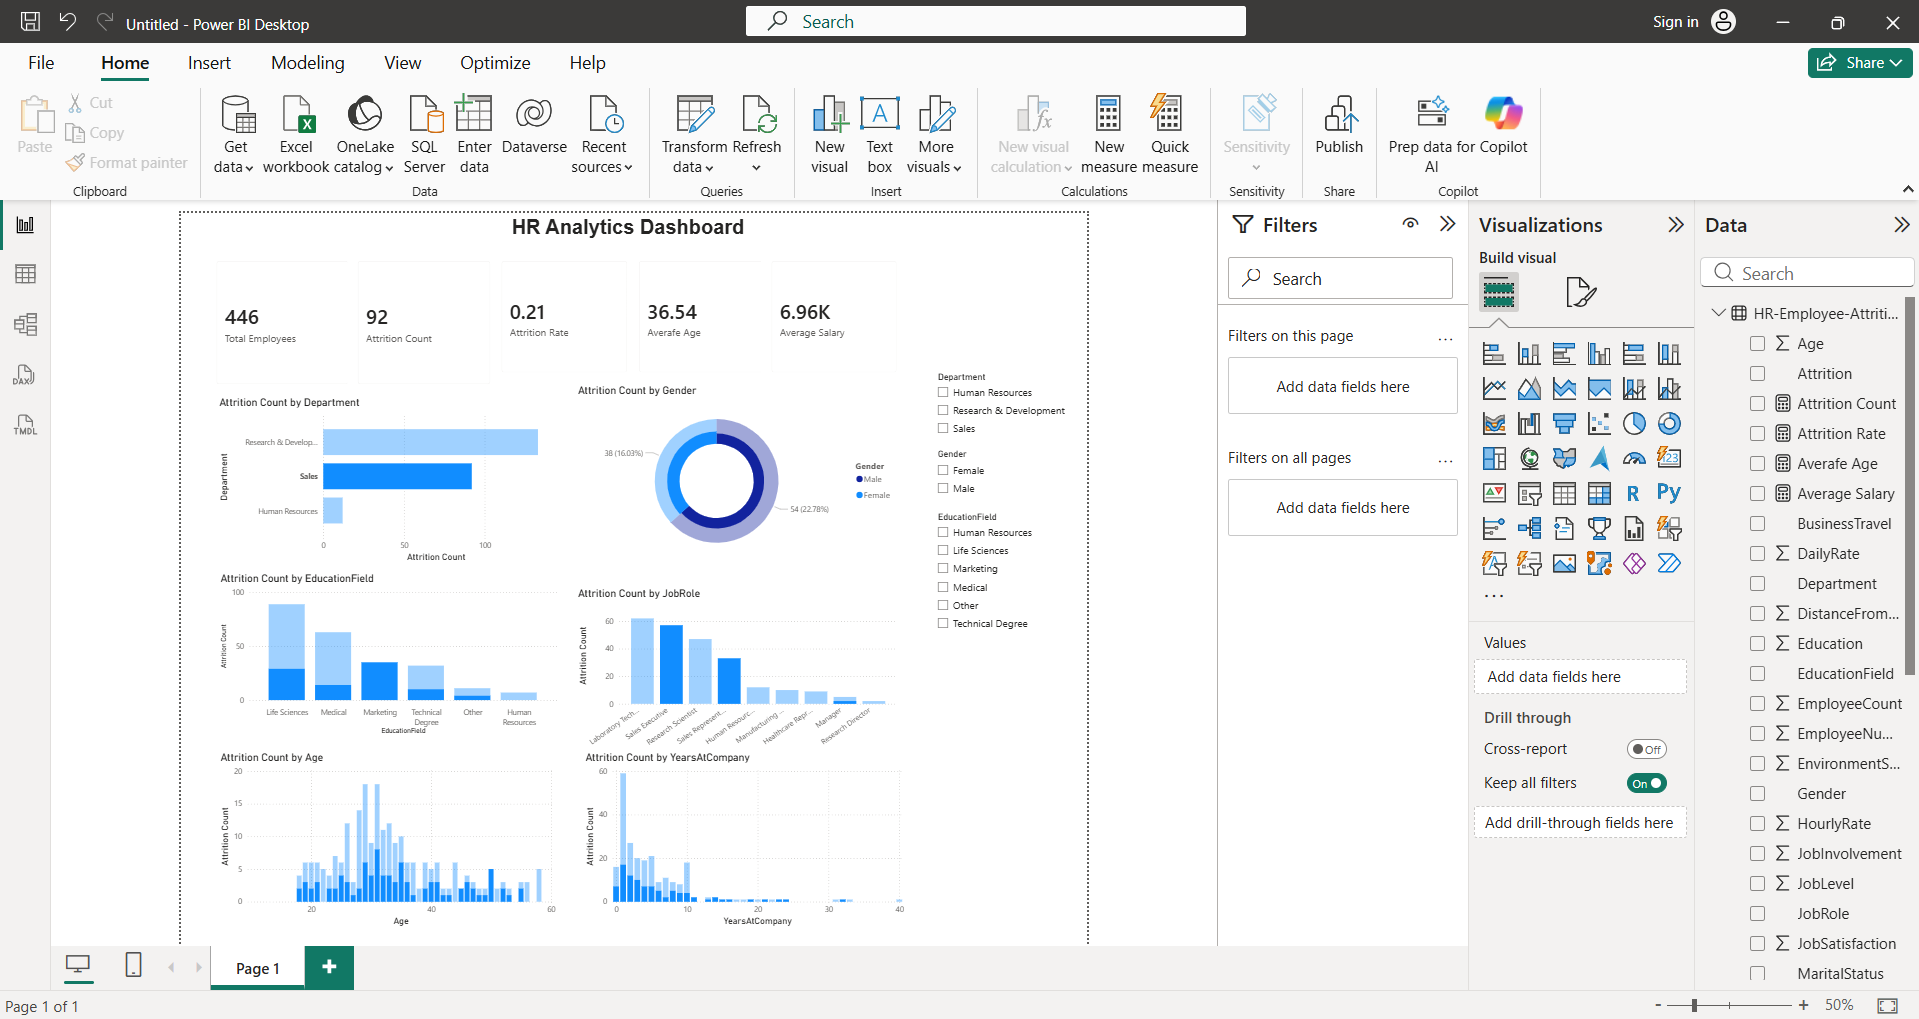

What the dashboard file says about the page in this screenshot:
{"tool":"powerbi","page":{"name":"Page 1","canvas":[1450,1180],"ordinal":0},"visuals":[{"type":"cardVisual","fields":{"Data":["HR-Employee-Attrition.Total Employees"]},"box":[40.6,60.9,245.3,231.3],"z":0},{"type":"cardVisual","fields":{"Data":["HR-Employee-Attrition.Attrition Count"]},"box":[265.6,60.9,246.9,231.3],"z":1},{"type":"cardVisual","fields":{"Data":["HR-Employee-Attrition.Attrition Rate"]},"box":[496.9,59.4,235.9,212.5],"z":2},{"type":"cardVisual","fields":{"Data":["HR-Employee-Attrition.Averafe Age"]},"box":[715.6,59.4,235.9,212.5],"z":3},{"type":"cardVisual","fields":{"Data":["HR-Employee-Attrition.Average Salary"]},"box":[928.1,59.4,234.4,212.5],"z":4},{"type":"clusteredBarChart","fields":{"Category":["HR-Employee-Attrition.Department"],"Y":["HR-Employee-Attrition.Attrition Count"]},"box":[56.3,292.2,548.4,271.9],"z":5},{"type":"donutChart","fields":{"Category":["HR-Employee-Attrition.Gender"],"Y":["HR-Employee-Attrition.Attrition Count"]},"box":[629.7,273.4,520.3,290.6],"z":6},{"type":"clusteredColumnChart","fields":{"Category":["HR-Employee-Attrition.EducationField"],"Y":["HR-Employee-Attrition.Attrition Count"]},"box":[57.1,574.5,547.8,266.3],"z":7},{"type":"clusteredColumnChart","fields":{"Category":["HR-Employee-Attrition.JobRole"],"Y":["HR-Employee-Attrition.Attrition Count"]},"box":[629.6,597.3,521.2,285.3],"z":8},{"type":"clusteredColumnChart","fields":{"Category":["HR-Employee-Attrition.YearsAtCompany"],"Y":["HR-Employee-Attrition.Attrition Count"]},"box":[642.3,859.9,520.1,285.9],"z":9},{"type":"clusteredColumnChart","fields":{"Category":["HR-Employee-Attrition.Age"],"Y":["HR-Employee-Attrition.Attrition Count"]},"box":[58,859.9,547,285.9],"z":10},{"type":"slicer","fields":{"Values":["HR-Employee-Attrition.Department"]},"box":[1197.6,248.6,252.8,124.3],"z":11},{"type":"slicer","fields":{"Values":["HR-Employee-Attrition.Gender"]},"box":[1197.6,373,252.8,97.4],"z":12},{"type":"slicer","fields":{"Values":["HR-Employee-Attrition.EducationField"]},"box":[1197.6,472.4,252.8,209.3],"z":13},{"type":"textbox","box":[523.4,0,507.8,59.4],"z":14}]}

Visuals, with their boxes on the page's 1450x1180 design canvas (x1, y1, x2, y2). These are canvas units, not pixel positions in the 1919x1019 screenshot, which may show the page scaled, cropped or inside an application window:
cardVisual - HR-Employee-Attrition.Total Employees: Rect(41, 61, 286, 292)
cardVisual - HR-Employee-Attrition.Attrition Count: Rect(266, 61, 512, 292)
cardVisual - HR-Employee-Attrition.Attrition Rate: Rect(497, 59, 733, 272)
cardVisual - HR-Employee-Attrition.Averafe Age: Rect(716, 59, 952, 272)
cardVisual - HR-Employee-Attrition.Average Salary: Rect(928, 59, 1162, 272)
clusteredBarChart - HR-Employee-Attrition.Department x HR-Employee-Attrition.Attrition Count: Rect(56, 292, 605, 564)
donutChart - HR-Employee-Attrition.Gender x HR-Employee-Attrition.Attrition Count: Rect(630, 273, 1150, 564)
clusteredColumnChart - HR-Employee-Attrition.EducationField x HR-Employee-Attrition.Attrition Count: Rect(57, 574, 605, 841)
clusteredColumnChart - HR-Employee-Attrition.JobRole x HR-Employee-Attrition.Attrition Count: Rect(630, 597, 1151, 883)
clusteredColumnChart - HR-Employee-Attrition.YearsAtCompany x HR-Employee-Attrition.Attrition Count: Rect(642, 860, 1162, 1146)
clusteredColumnChart - HR-Employee-Attrition.Age x HR-Employee-Attrition.Attrition Count: Rect(58, 860, 605, 1146)
slicer - HR-Employee-Attrition.Department: Rect(1198, 249, 1450, 373)
slicer - HR-Employee-Attrition.Gender: Rect(1198, 373, 1450, 470)
slicer - HR-Employee-Attrition.EducationField: Rect(1198, 472, 1450, 682)
textbox: Rect(523, 0, 1031, 59)
